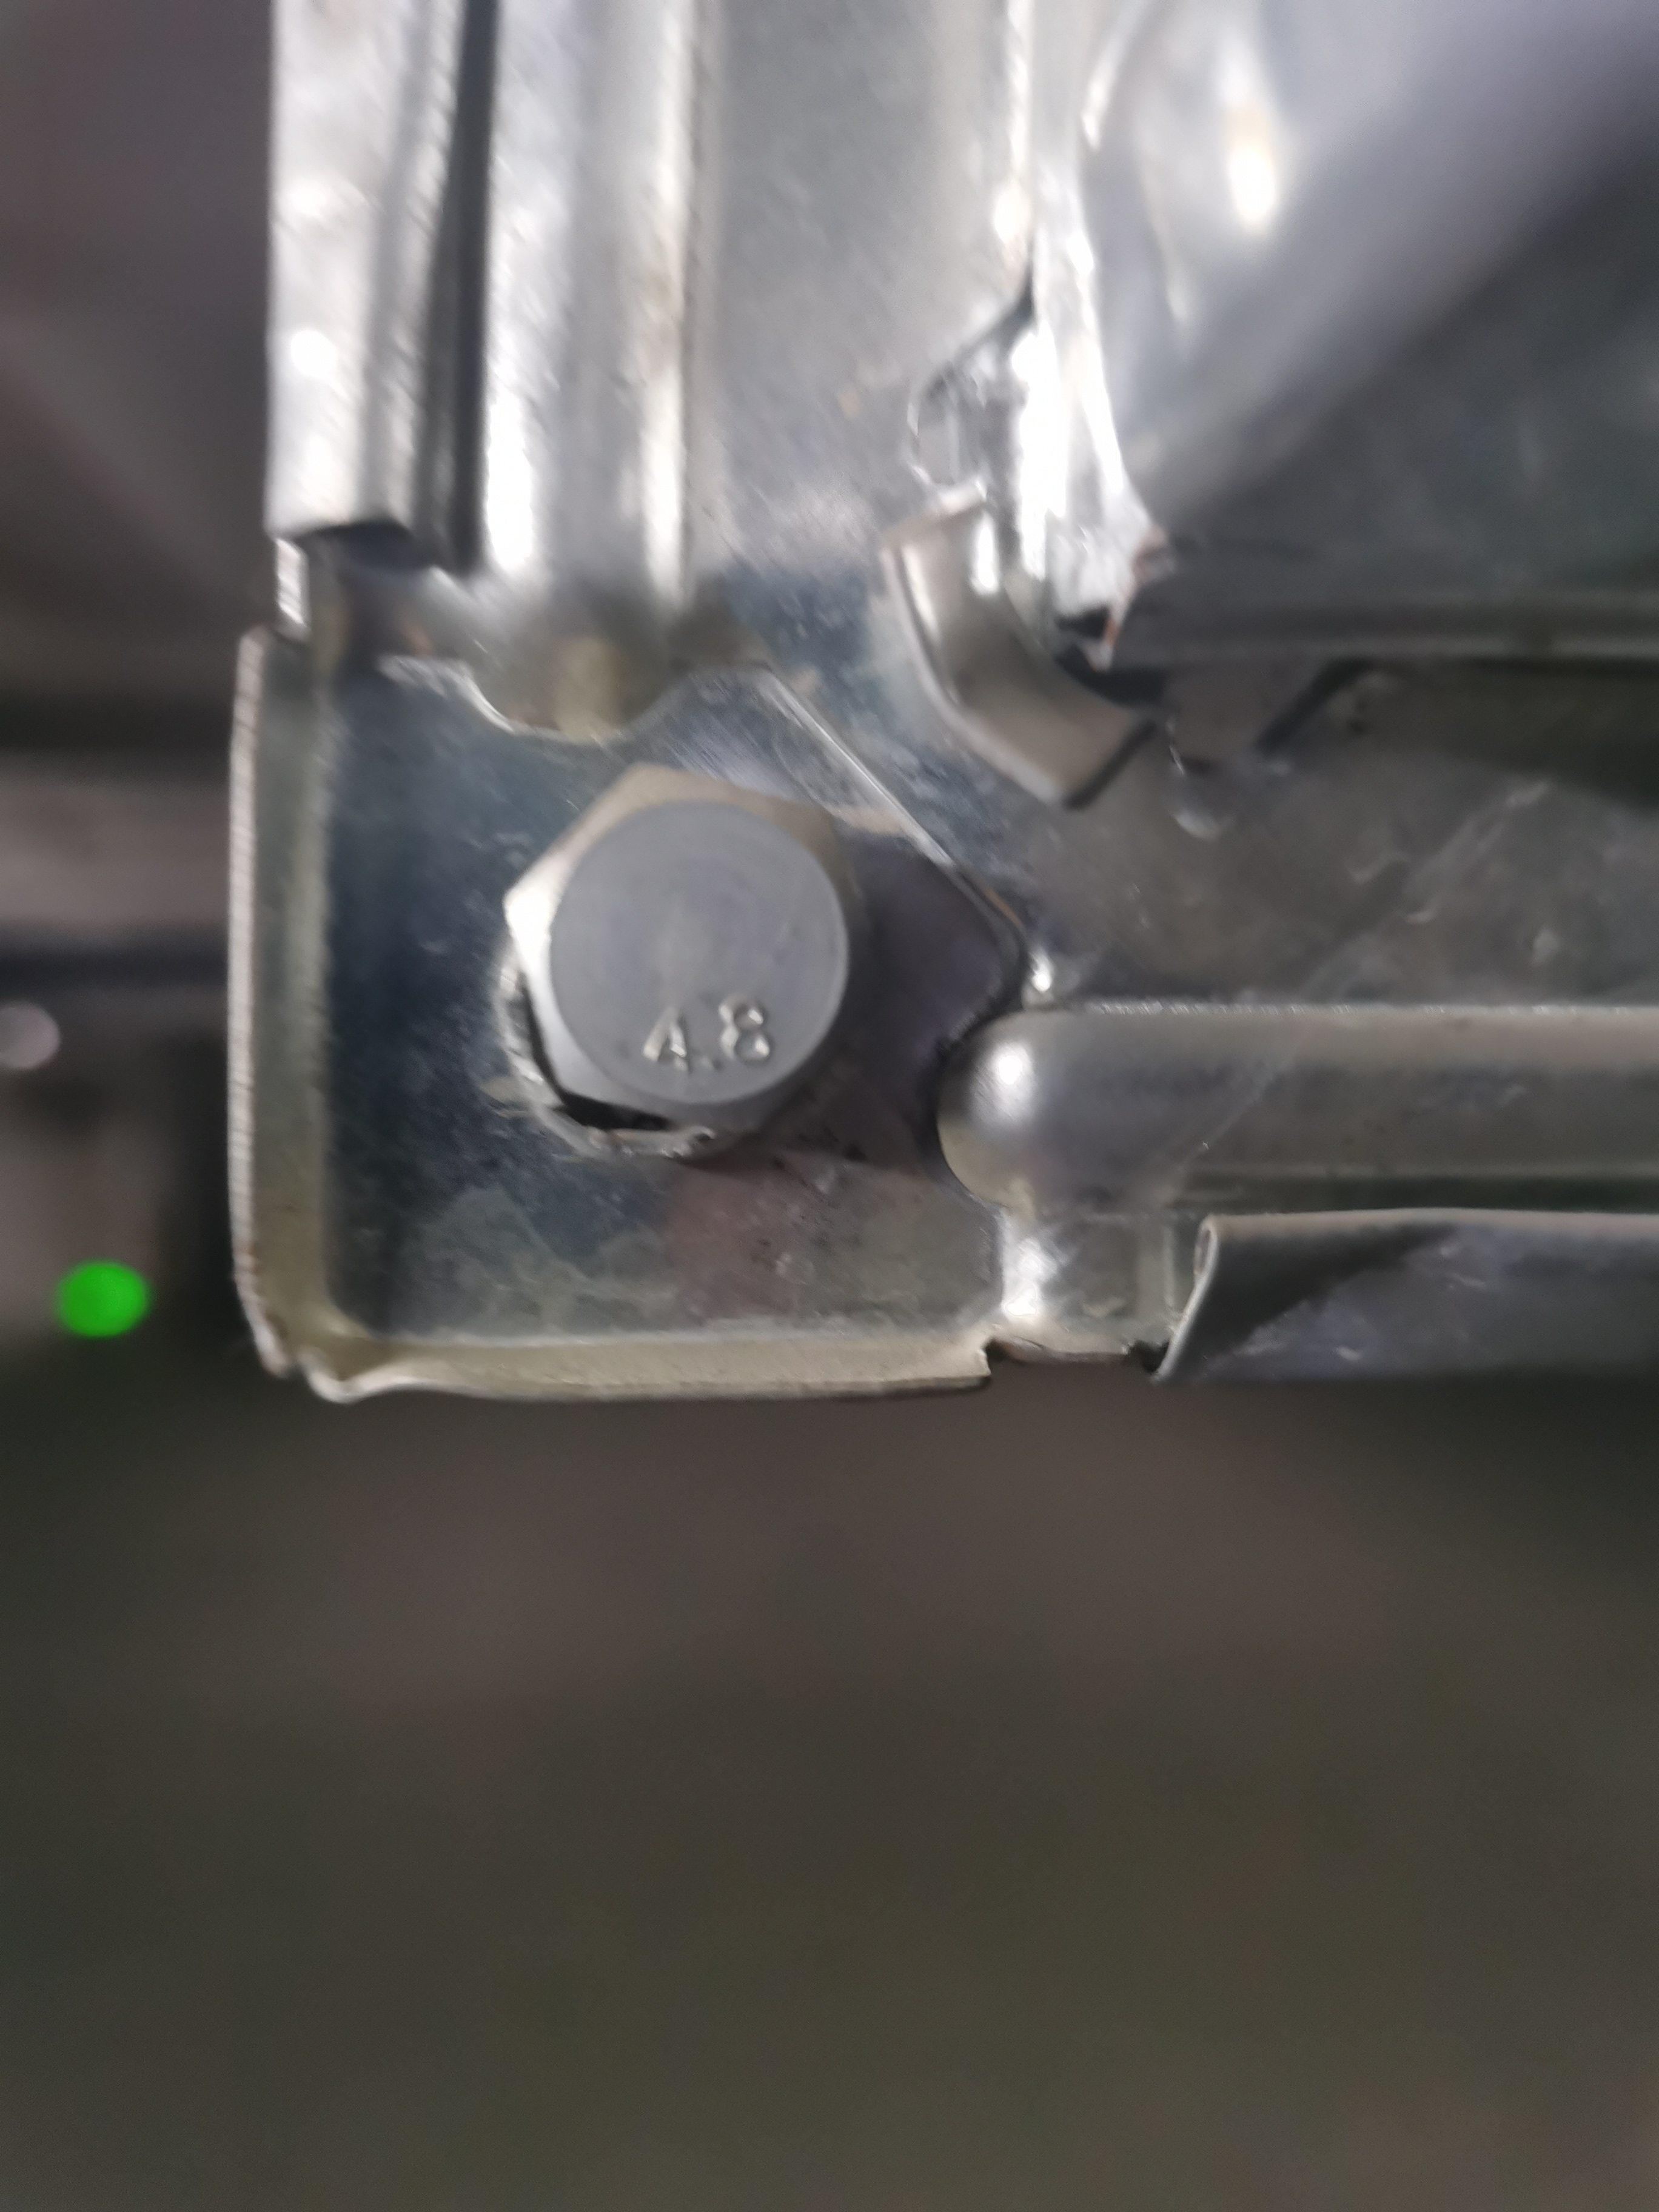bolt_a: (472, 740, 897, 1160)
